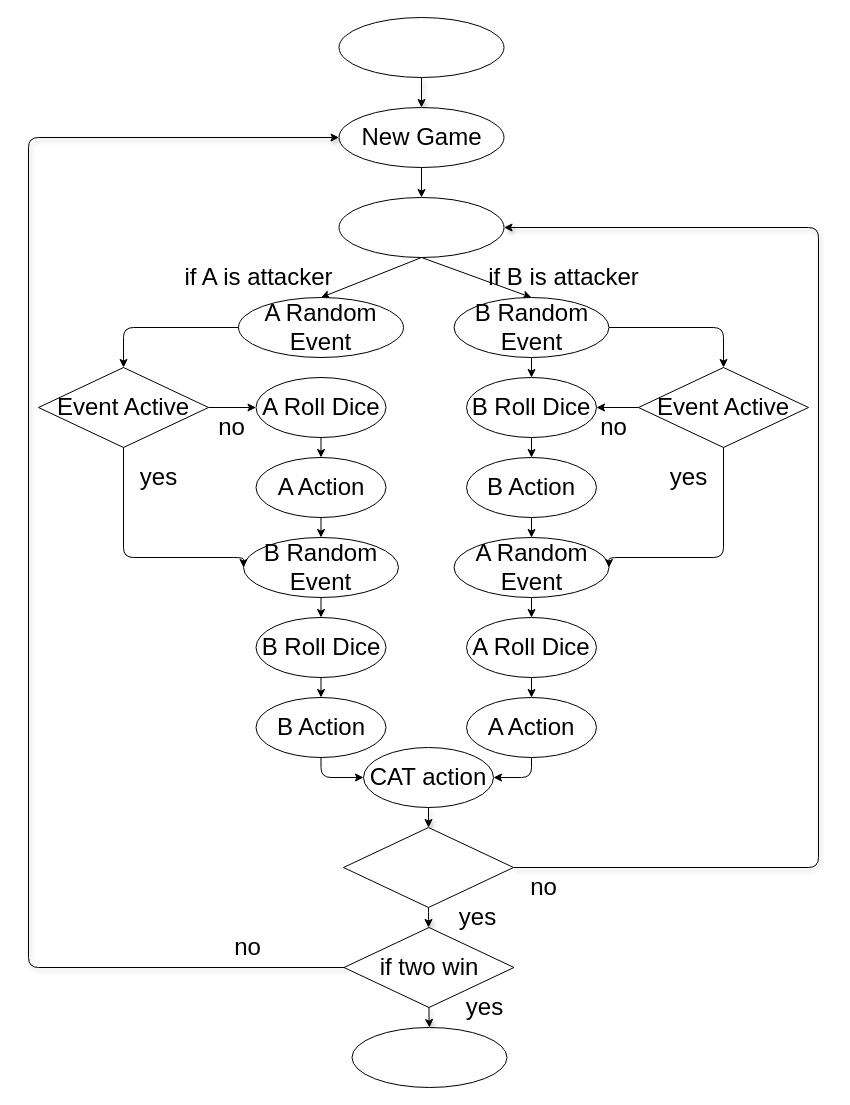
Some shapes in this 850 by 1105 pixel diagram are drawn without their labels. The centre of each missing label's shape, as x and y in pixels:
"FIN" belongs at pixel 429 1057.
"hp<0 or 10 round" belongs at pixel 428 867.
"Round start" belongs at pixel 421 227.
"WELCOME" belongs at pixel 421 47.
